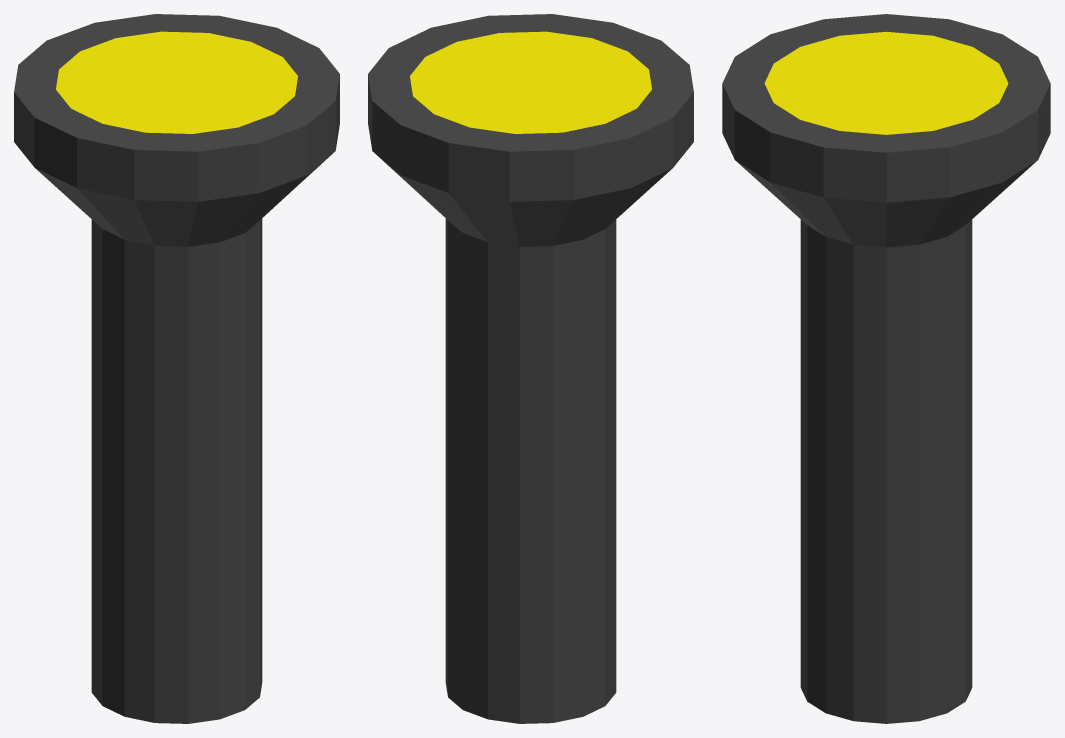
File: flash light.fbx
The picture shows the model from 3 angles, left to right: view 1: azimuth 30°, elevation 25°; view 2: azimuth 150°, elevation 25°; view 3: azimuth 270°, elevation 25°; orthographic projection.
Visible parts, largest first — view 1: Cylinder.003; view 2: Cylinder.003; view 3: Cylinder.003.
Part boxes in pixels (x1,y1,x2,y2): Cylinder.003: (14, 14, 339, 723); Cylinder.003: (368, 14, 693, 723); Cylinder.003: (722, 14, 1050, 723).
Bounding box in the file's own units: 46.98 × 95.44 × 46.98.
